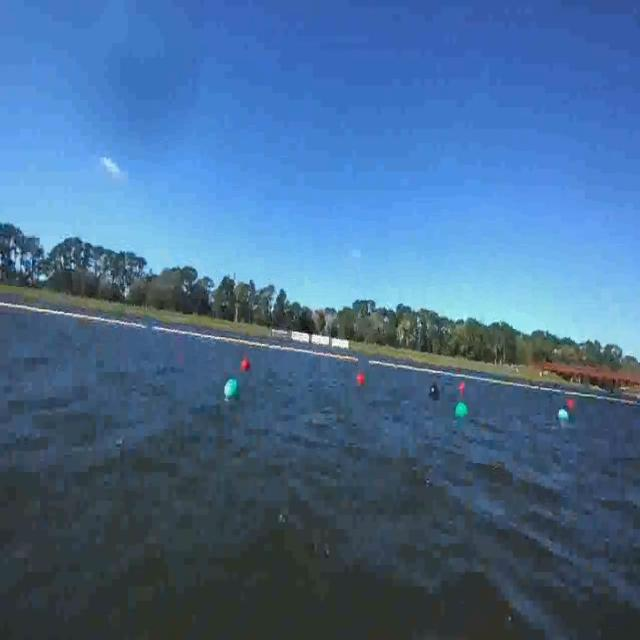black-buoy: (428, 380, 441, 401)
green-buoy: (225, 375, 239, 398), (455, 402, 469, 420), (558, 410, 570, 422)
red-buoy: (242, 359, 250, 372), (358, 372, 366, 384), (566, 398, 575, 408)
